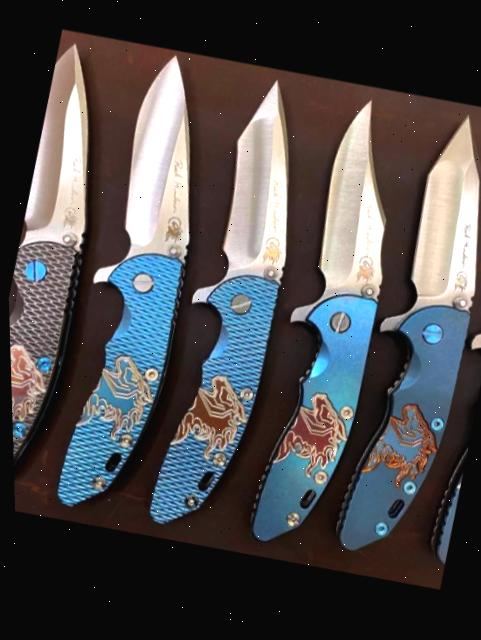pocket-knife: (21, 39, 242, 536), (122, 60, 339, 548), (220, 78, 429, 567), (310, 96, 481, 579), (1, 26, 141, 516), (400, 119, 481, 571)
